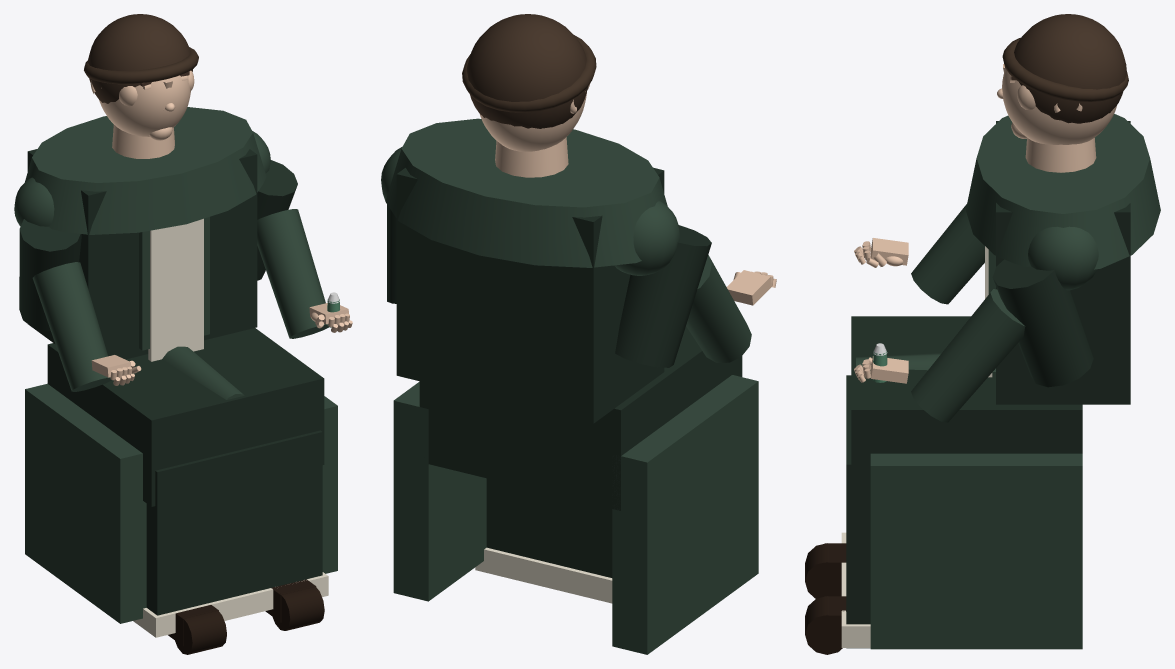
The model's file is adv_physician.glb.
3 renders of one model, left to right at view 1: azimuth 30°, elevation 25°; view 2: azimuth 150°, elevation 25°; view 3: azimuth 270°, elevation 25°, orthographic. The views are drawn at different scales.
Visible parts, largest first — view 1: LowerBodyRobes, TorsoAssembly, RightArmAssembly, HeadAssembly, Cranium, LeftHand, RightHand; view 2: TorsoAssembly, LowerBodyRobes, HeadAssembly, Cranium, RightArmAssembly, LeftHand; view 3: LowerBodyRobes, TorsoAssembly, RightArmAssembly, HeadAssembly, Cranium, LeftHand, RightHand.
Part boxes in pixels (x1=…): LowerBodyRobes: x1=25, y1=328, x2=337, y2=654; TorsoAssembly: x1=14, y1=107, x2=266, y2=391; RightArmAssembly: x1=252, y1=131, x2=339, y2=338; HeadAssembly: x1=84, y1=14, x2=198, y2=140; Cranium: x1=99, y1=75, x2=190, y2=136; LeftHand: x1=91, y1=355, x2=141, y2=385; RightHand: x1=309, y1=303, x2=352, y2=332; TorsoAssembly: x1=385, y1=118, x2=751, y2=423; LowerBodyRobes: x1=393, y1=326, x2=758, y2=654; HeadAssembly: x1=462, y1=14, x2=596, y2=128; Cranium: x1=480, y1=92, x2=586, y2=151; RightArmAssembly: x1=381, y1=146, x2=402, y2=303; LeftHand: x1=726, y1=270, x2=776, y2=305; LowerBodyRobes: x1=805, y1=316, x2=1082, y2=654; TorsoAssembly: x1=911, y1=114, x2=1160, y2=404; RightArmAssembly: x1=872, y1=226, x2=1098, y2=422; HeadAssembly: x1=997, y1=14, x2=1128, y2=138; Cranium: x1=1002, y1=70, x2=1116, y2=144; LeftHand: x1=854, y1=238, x2=908, y2=267; RightHand: x1=854, y1=356, x2=908, y2=383.
Size of the model in its own units: 0.7212 by 1.37 by 0.7385.
